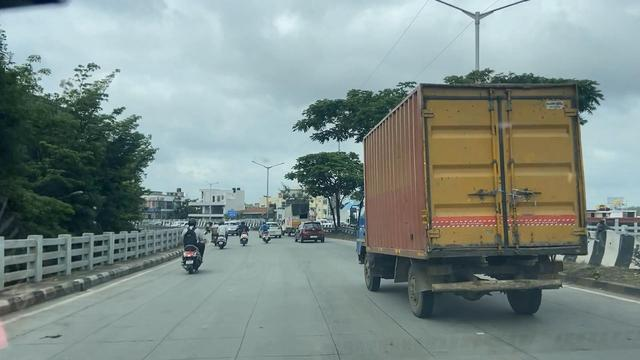HMV: (384, 89, 583, 318)
LMV: (175, 216, 208, 266), (297, 219, 328, 247), (217, 222, 234, 248), (259, 219, 275, 246), (239, 231, 246, 247)
